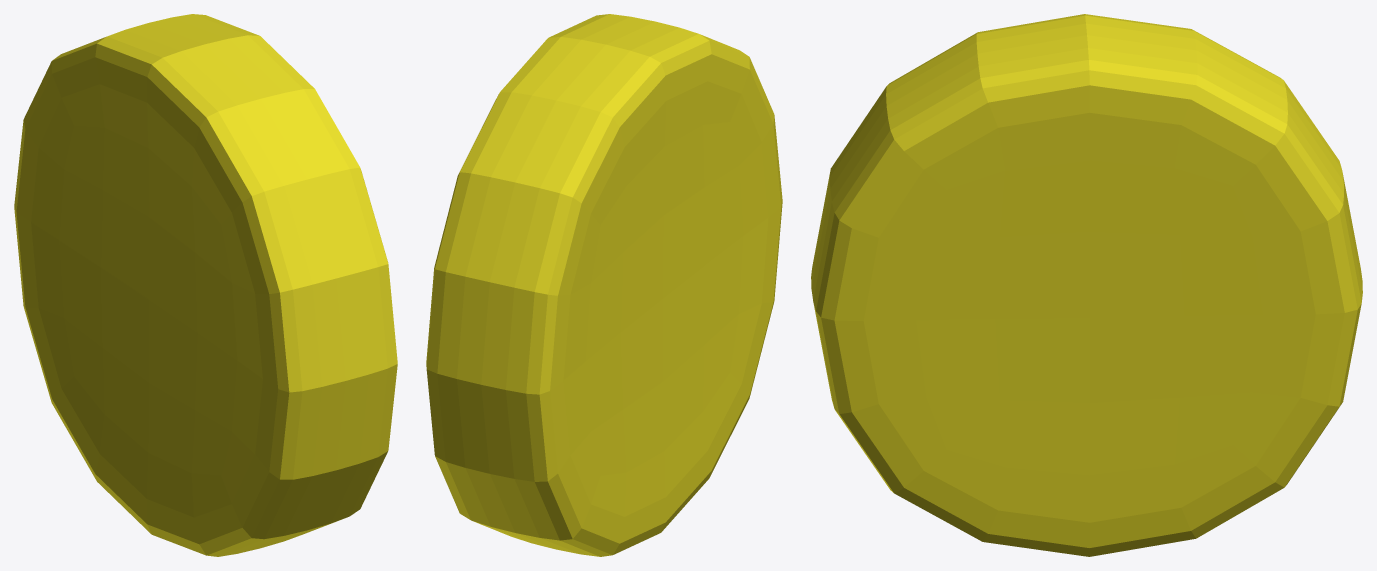
Rendered from coin.fbx.
3 views of the same model, side by side, from view 1: azimuth 30°, elevation 25°; view 2: azimuth 150°, elevation 25°; view 3: azimuth 270°, elevation 25° (orthographic). The views are drawn at different scales.
Parts seen in each view (by area): view 1: Cube.002; view 2: Cube.002; view 3: Cube.002.
Boxes of the visible parts, box(x1,y1,x2,y2) form: Cube.002: box(14, 14, 397, 556); Cube.002: box(426, 14, 782, 556); Cube.002: box(811, 14, 1362, 556).
Bounding box in the file's own units: 6.72 × 22.47 × 22.49.
